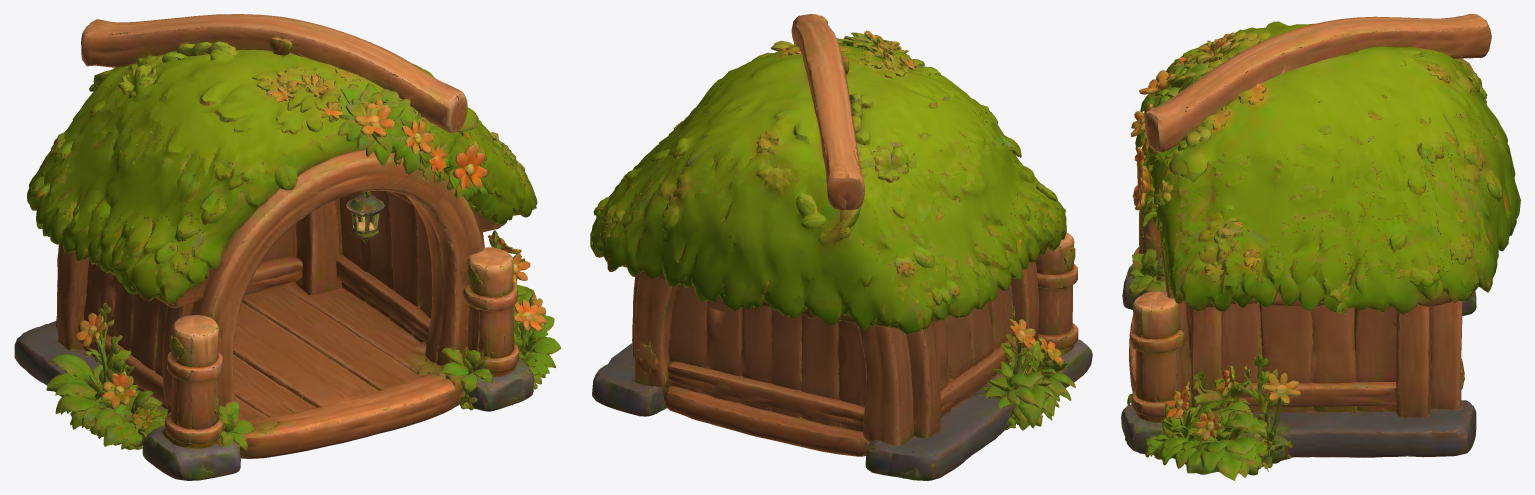
Rendered from mossflower-hollow.glb.
3 views of the same model, side by side, from view 1: azimuth 30°, elevation 25°; view 2: azimuth 150°, elevation 25°; view 3: azimuth 270°, elevation 25° (orthographic). The views are drawn at different scales.
Visible parts, largest first — view 1: mesh_node; view 2: mesh_node; view 3: mesh_node.
Part boxes in pixels (x1=…): mesh_node: x1=14, y1=14, x2=561, y2=480; mesh_node: x1=590, y1=14, x2=1092, y2=480; mesh_node: x1=1121, y1=14, x2=1520, y2=480.
Size of the model in its own units: 1.9 by 1.38 by 1.44.
Materials: 1 (1 with a texture image).
